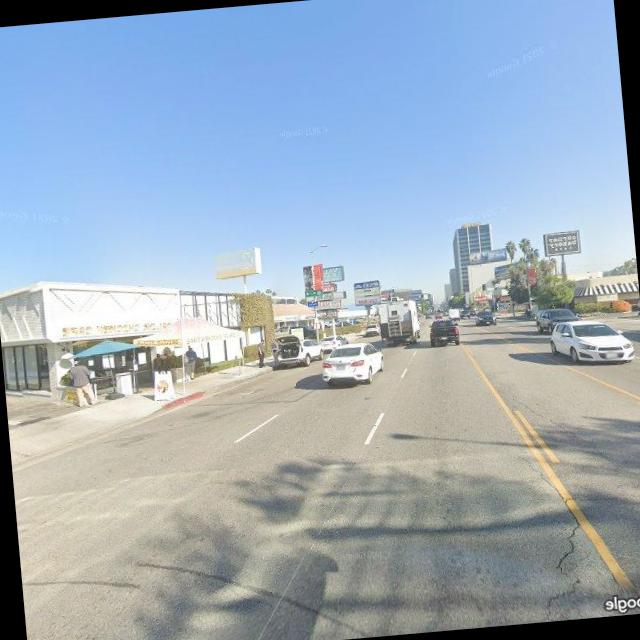pothole: (517, 447, 592, 622), (512, 392, 572, 438)
